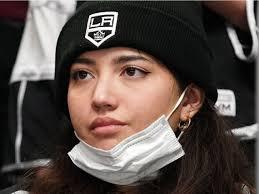Wore Mask Incorrectly: (59, 4, 220, 186)
